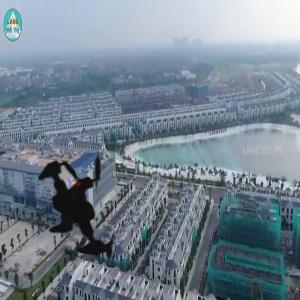drone: (2, 121, 173, 292)
